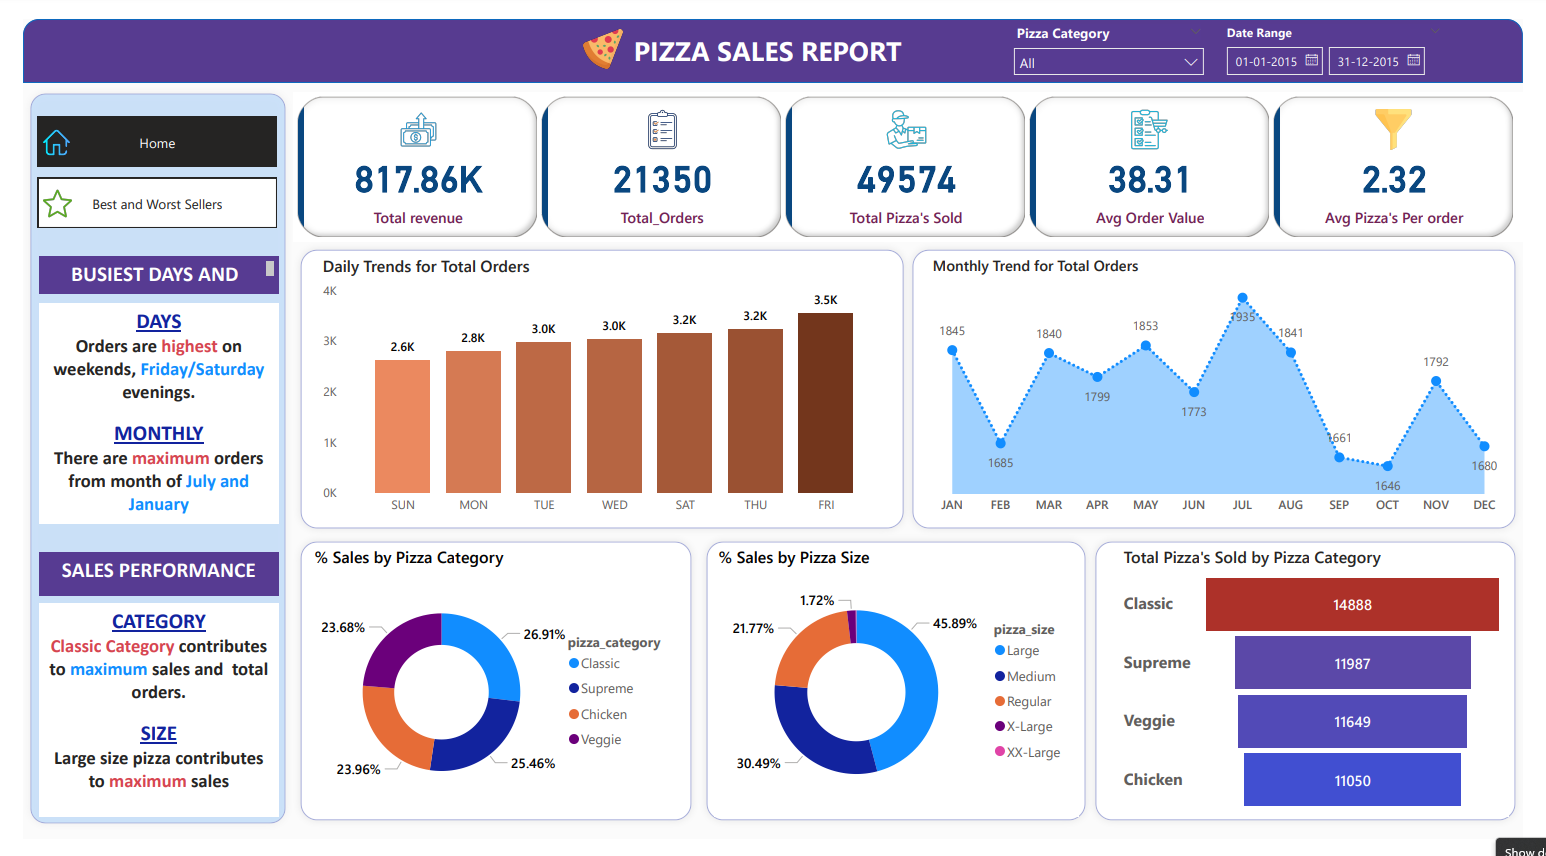

Layout of this report page (visuals, bound fields, positions):
{"tool":"powerbi","page":{"name":"Home","canvas":[1500,820],"ordinal":0},"visuals":[{"type":"shape","box":[0,67.3,270.3,744.5],"z":0},{"type":"textbox","box":[16.3,236.6,239.7,38.8],"z":1000},{"type":"cardVisual","fields":{"Data":["pizza_sales_excel_file.Total revenue","pizza_sales_excel_file.Total_Orders","pizza_sales_excel_file.Total Pizza's Sold","pizza_sales_excel_file.Avg Order Value","pizza_sales_excel_file.Avg Pizza's Per order"]},"box":[270.5,73.2,1229.5,150],"z":2000},{"type":"shape","box":[0,0,1500,64],"z":3000},{"type":"textbox","box":[605.7,8.2,287.2,47.6],"z":4000},{"type":"image","box":[554,5.4,51.7,50.4],"z":5000},{"type":"shape","box":[270.5,223.2,617.7,294.1],"z":6000},{"type":"columnChart","title":"Daily Trends for Total Orders","fields":{"Category":["pizza_sales_excel_file.Order Day"],"Y":["pizza_sales_excel_file.Total_Orders"]},"box":[295.3,236.2,569.3,268.1],"z":7000},{"type":"shape","box":[882.3,223.2,617.7,294.1],"z":8000},{"type":"areaChart","title":"Monthly Trend for Total Orders","fields":{"Category":["pizza_sales_excel_file.Order Month"],"Y":["pizza_sales_excel_file.Total_Orders"]},"box":[904.7,236.2,581.1,268.1],"z":9000},{"type":"shape","box":[270.5,515,405.1,294.1],"z":10000},{"type":"shape","box":[675.6,515,394.5,294.1],"z":11000},{"type":"shape","box":[1065.4,515,434.6,294.1],"z":12000},{"type":"donutChart","title":"% Sales by Pizza Category","fields":{"Category":["pizza_sales_excel_file.pizza_category"],"Y":["pizza_sales_excel_file.Total revenue"]},"box":[287,526.8,372,271.7],"z":13000},{"type":"donutChart","title":"% Sales by Pizza Size","fields":{"Category":["pizza_sales_excel_file.pizza_size"],"Y":["pizza_sales_excel_file.Total revenue"]},"box":[690.9,526.8,365,271.7],"z":14000},{"type":"funnel","title":"Total Pizza''s Sold by Pizza Category","fields":{"Y":["pizza_sales_excel_file.Total Pizza's Sold"],"Category":["pizza_sales_excel_file.pizza_category"]},"box":[1096.1,526.8,389.8,271.7],"z":15000},{"type":"slicer","fields":{"Values":["pizza_sales_excel_file.pizza_category"]},"box":[981.5,0,209.1,55.5],"z":16000},{"type":"slicer","fields":{"Values":["pizza_sales_excel_file.order_date"]},"box":[1190.6,0,239.8,67.3],"z":17000},{"type":"textbox","box":[16.3,283.5,239.7,221.3],"z":18000},{"type":"textbox","box":[16.3,533.4,239.7,43.9],"z":18001},{"type":"textbox","box":[16.3,584.4,239.7,213.2],"z":18002},{"type":"pageNavigator","box":[15,98,239.6,50.4],"z":18003},{"type":"pageNavigator","box":[15,159.3,239.6,50.4],"z":18004},{"type":"image","box":[16.3,106.2,35.4,35.4],"z":18005},{"type":"image","box":[16.3,166.1,38.1,38.1],"z":18006}]}

Visuals, with their boxes in screenshot pixels (x1, y1, x2, y2), scaled from the page's 1500x820 canvas onto the 1546x856 screenshot:
shape: [0,70,279,847]
textbox: [17,247,264,287]
cardVisual - pizza_sales_excel_file.Total revenue x pizza_sales_excel_file.Total_Orders: [279,76,1545,233]
shape: [0,0,1545,67]
textbox: [624,9,920,58]
image: [571,6,624,58]
shape: [279,233,915,540]
"Daily Trends for Total Orders" columnChart: [304,247,891,526]
shape: [909,233,1545,540]
"Monthly Trend for Total Orders" areaChart: [932,247,1531,526]
shape: [279,538,696,845]
shape: [696,538,1103,845]
shape: [1098,538,1545,845]
"% Sales by Pizza Category" donutChart: [296,550,679,834]
"% Sales by Pizza Size" donutChart: [712,550,1088,834]
"Total Pizza''s Sold by Pizza Category" funnel: [1130,550,1531,834]
slicer - pizza_sales_excel_file.pizza_category: [1012,0,1227,58]
slicer - pizza_sales_excel_file.order_date: [1227,0,1474,70]
textbox: [17,296,264,527]
textbox: [17,557,264,603]
textbox: [17,610,264,833]
pageNavigator: [15,102,262,155]
pageNavigator: [15,166,262,219]
image: [17,111,53,148]
image: [17,173,56,213]
